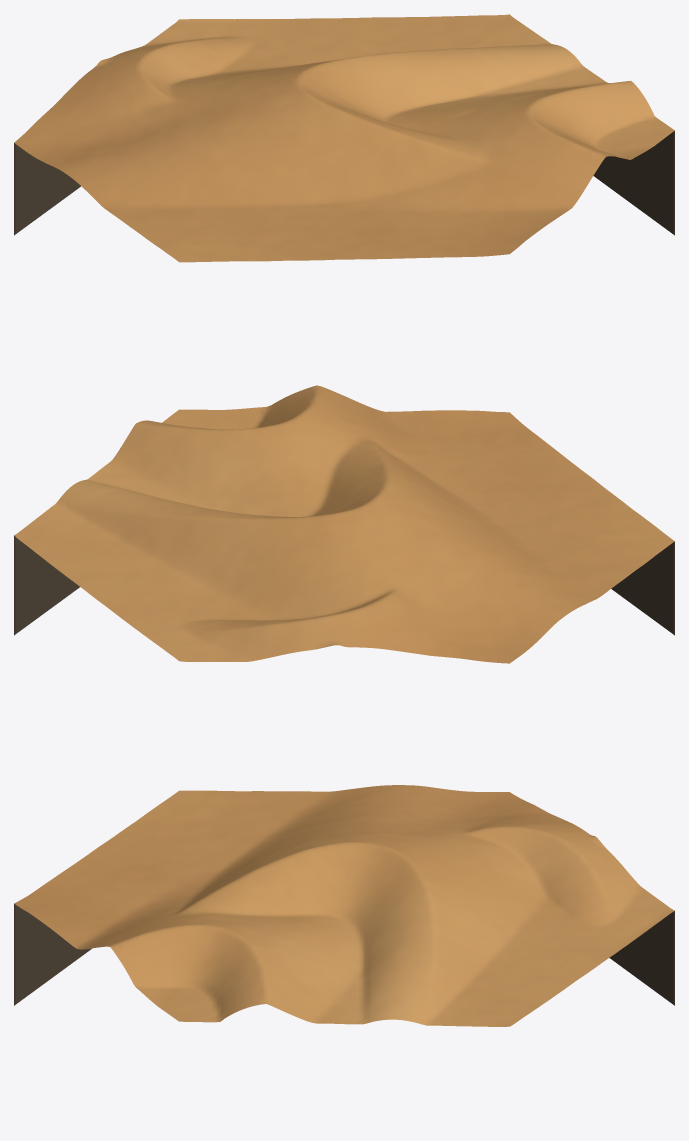
3 renders of one model, top to bottom at view 1: azimuth 30°, elevation 25°; view 2: azimuth 150°, elevation 25°; view 3: azimuth 270°, elevation 25°, orthographic.
Visible parts, largest first — view 1: terrain, hex_side_cut; view 2: terrain, hex_side_cut; view 3: terrain, hex_side_cut.
Boxes of the visible parts, <box> form: terrain: <box>14,14,674,262</box>; hex_side_cut: <box>14,131,674,235</box>; terrain: <box>14,385,674,663</box>; hex_side_cut: <box>14,535,674,635</box>; terrain: <box>14,785,674,1026</box>; hex_side_cut: <box>14,904,674,1005</box>.
Bounding box in the file's own units: 4330 × 1226 × 5000.
